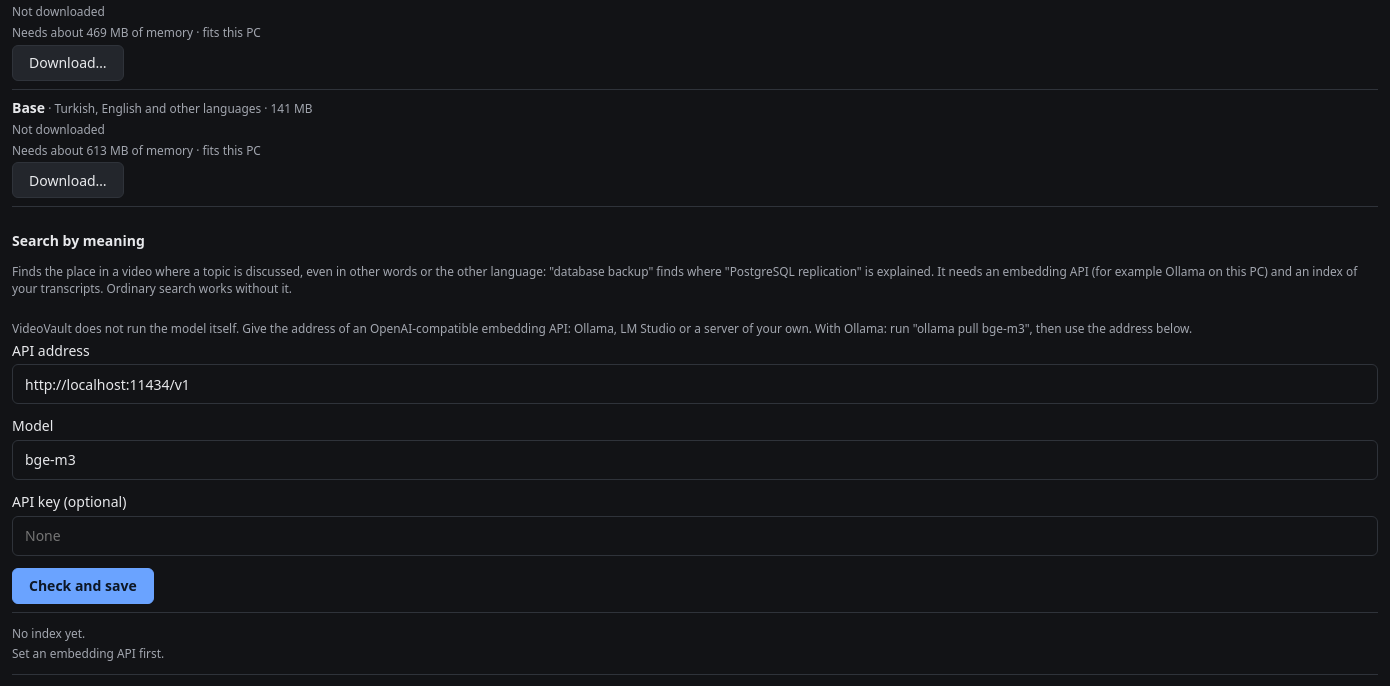
Test: Search by meaning › needs an API, checks it, then builds the index
The width and height of the screenshot is (1390, 686).
(page scrolled)
Expected: the element with test id "search-index" shows "Ordinary search works without it", [12,263,1357,296]
Expected: the element with test id "search-index" shows "Set an embedding API first.", [12,645,164,661]
# Nothing answers: the form stays with a reason.
Step 1. Type "http://localhost:9/unreachable" into the field with test id "search-api-url" → coordinates (695, 384), box [12,364,1378,404]
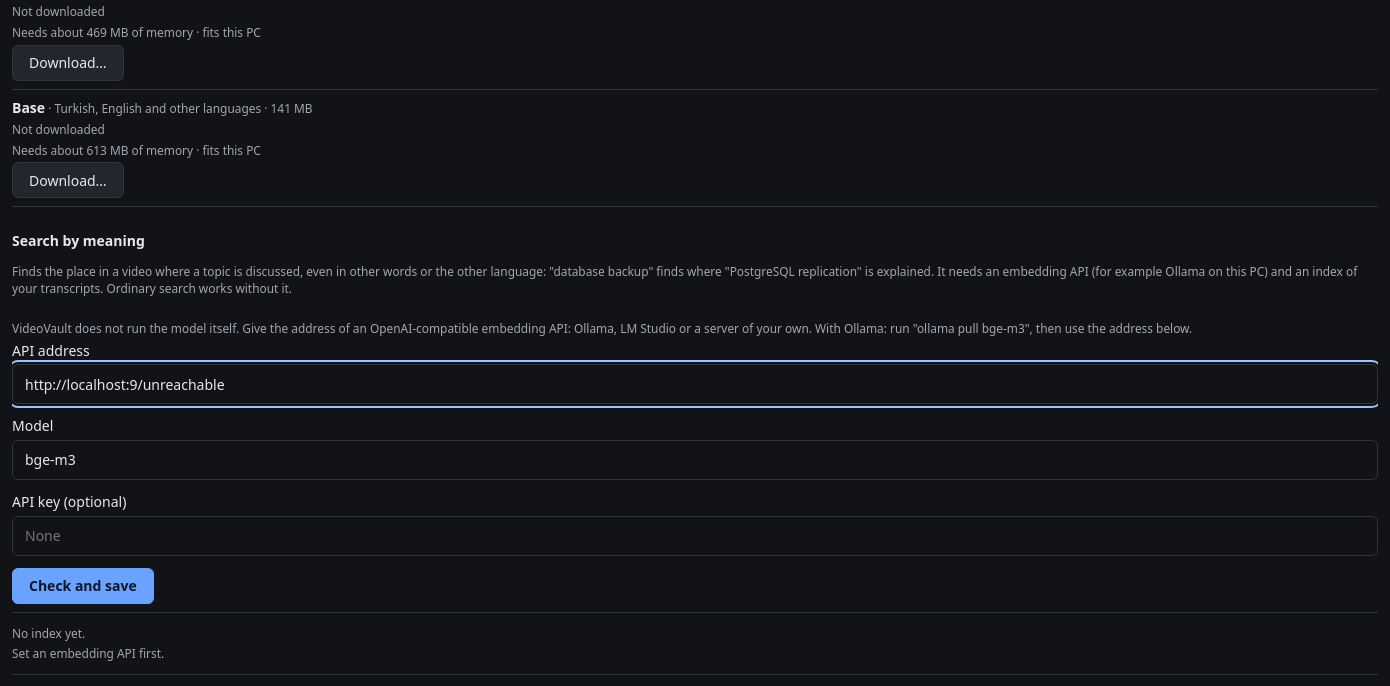
Step 2. Click the button with test id "search-api-save" → coordinates (83, 586), box [12,568,154,604]
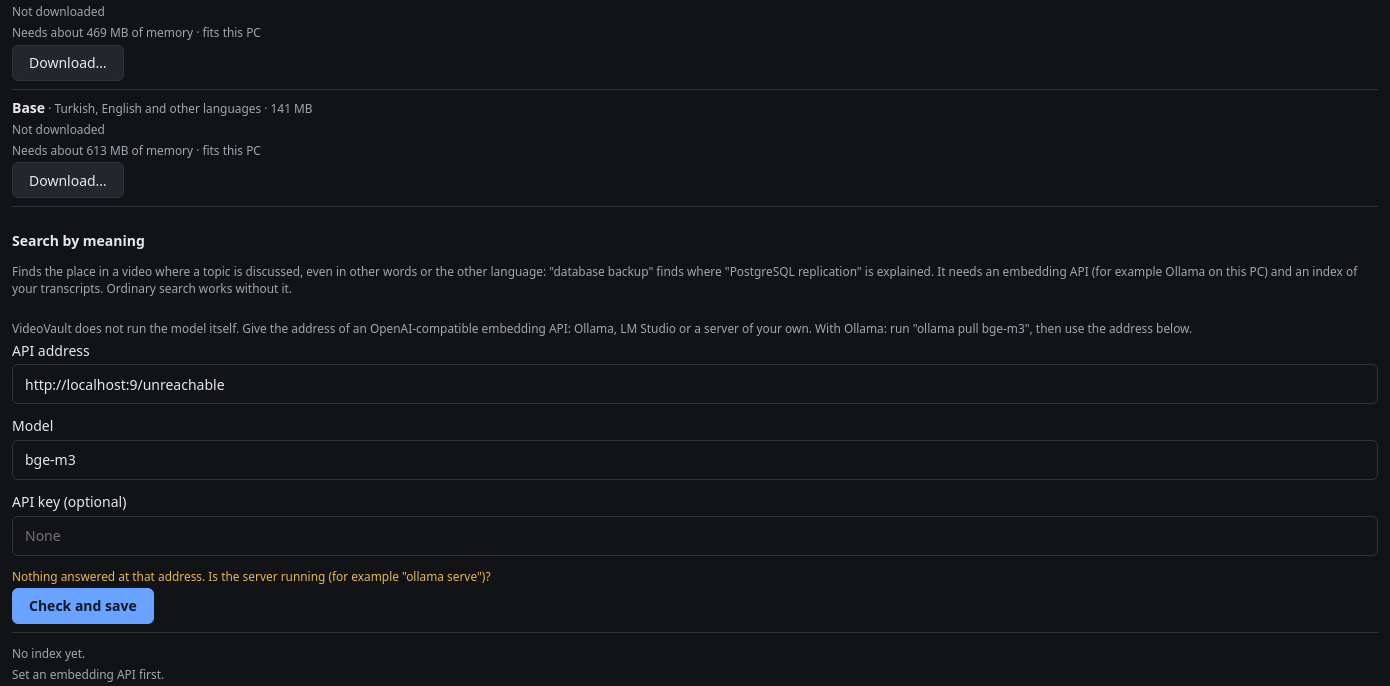
Expected: the message with test id "search-api-error" shows "Nothing answered at that address", [12,568,491,584]
Step 3. Replace the text in the field with test id "search-api-url" with "http://localhost:11434/v1" → coordinates (695, 384), box [12,364,1378,404]
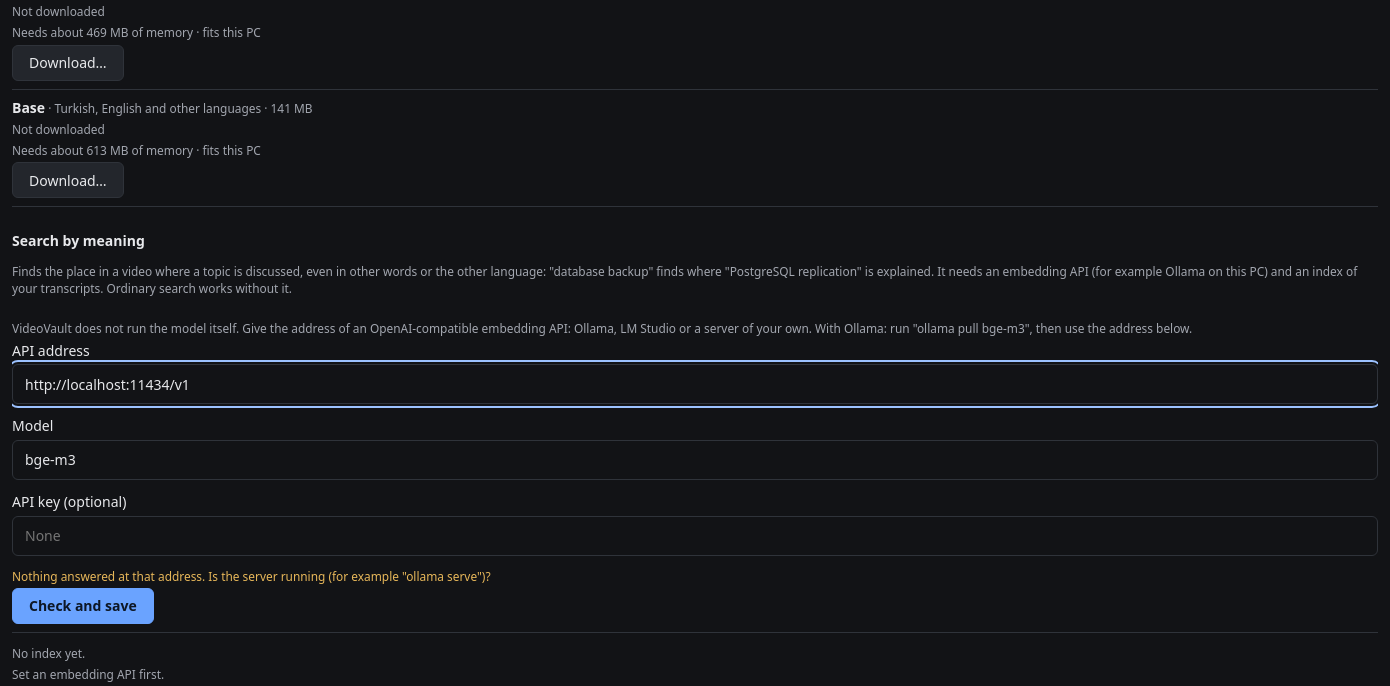
Step 4. Click the button with test id "search-api-save" → coordinates (83, 606), box [12,588,154,624]
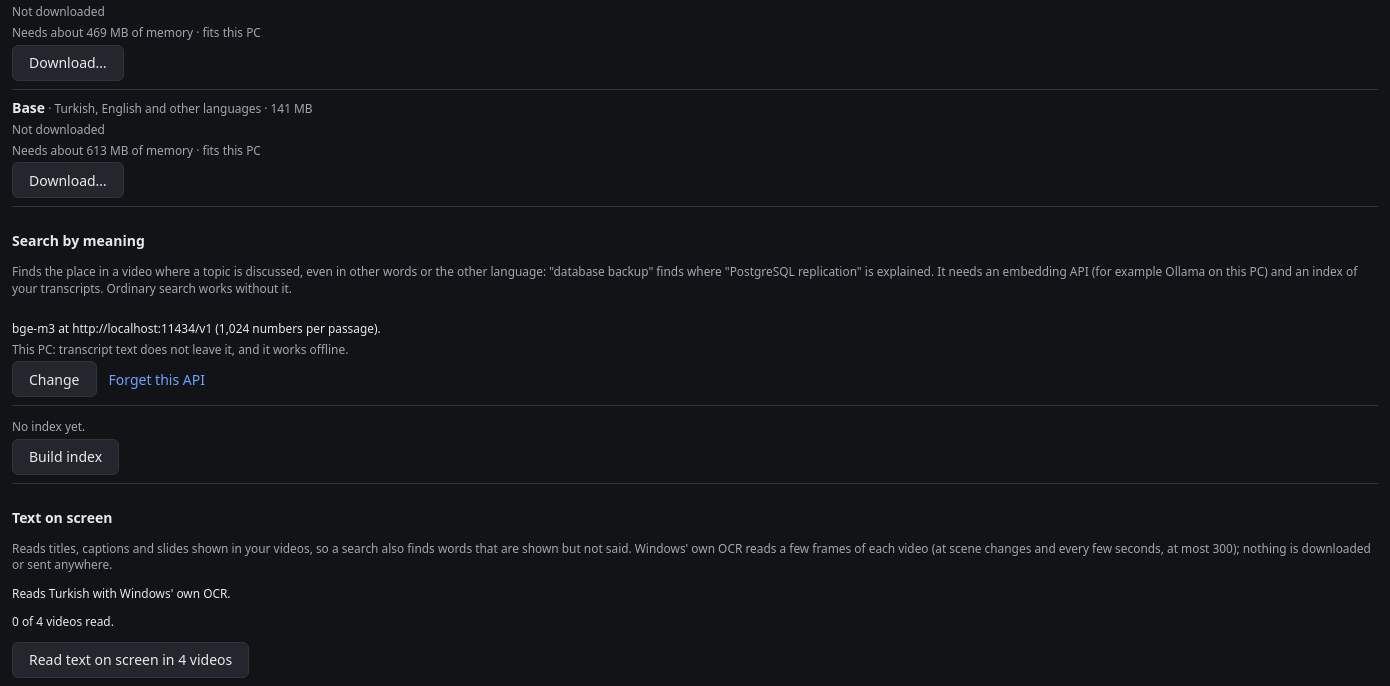
Expected: the text with test id "search-api-summary" reads "bge-m3 at http://localhost:11434/v1 (1,024 numbers per passage).", [12,320,381,336]
Expected: the text with test id "search-api-where" shows "does not leave it", [12,341,348,357]
Step 5. Click the button with test id "search-index-build" → coordinates (66, 457), box [12,439,119,475]
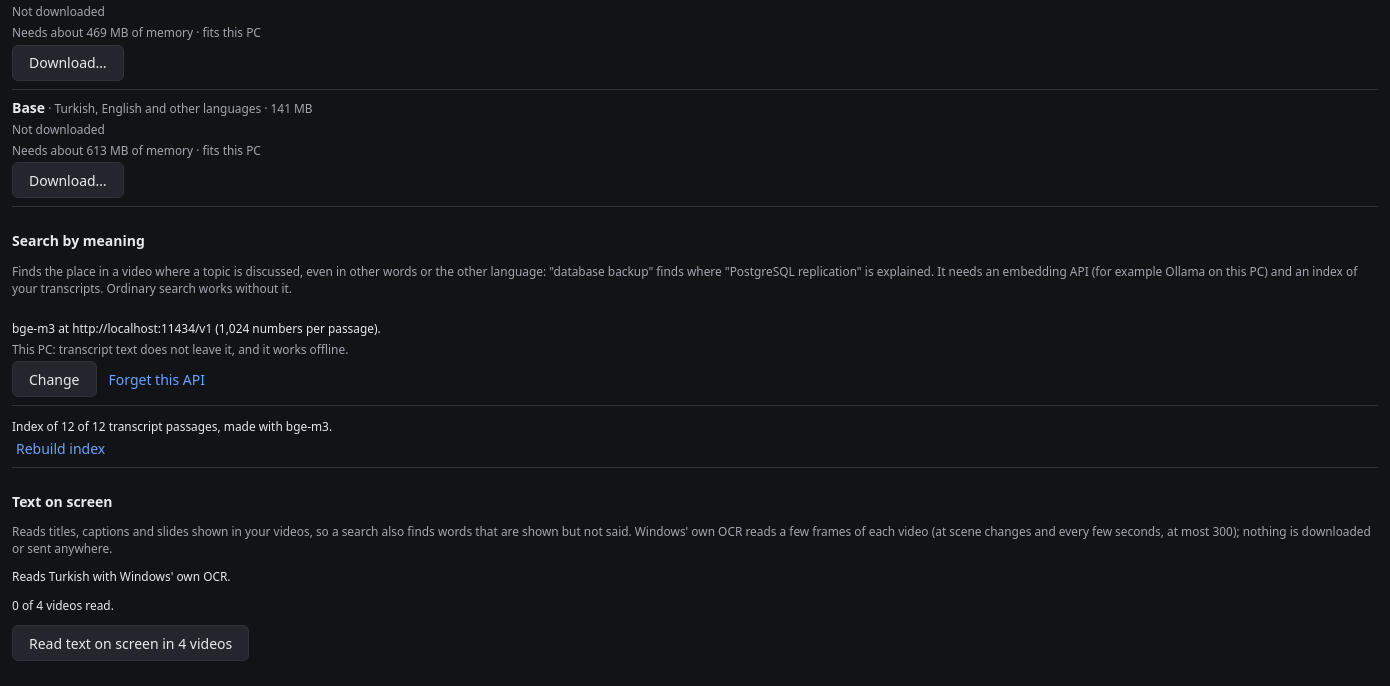
Expected: the text with test id "search-index-active" reads "Index of 12 of 12 transcript passages, made with bge-m3.", [12,418,332,434]
Expected: the button with test id "search-index-rebuild" is shown, [12,439,109,459]
